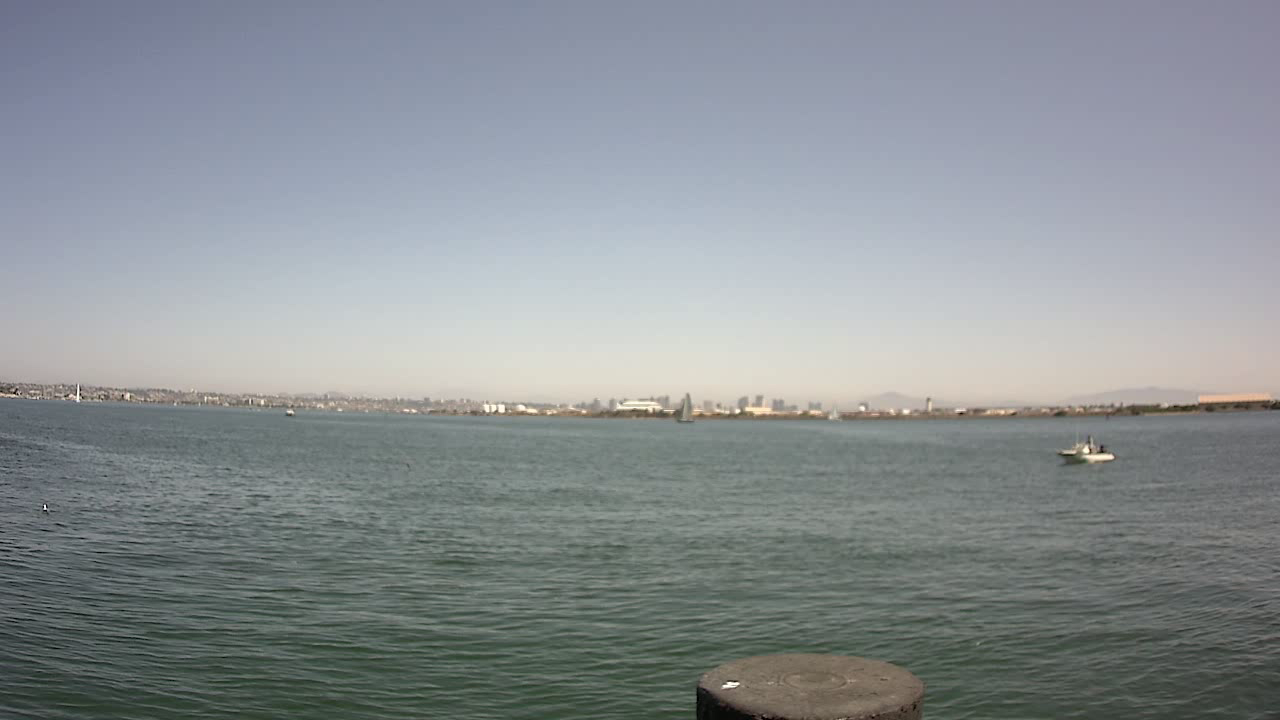target: (1053, 432, 1119, 468)
